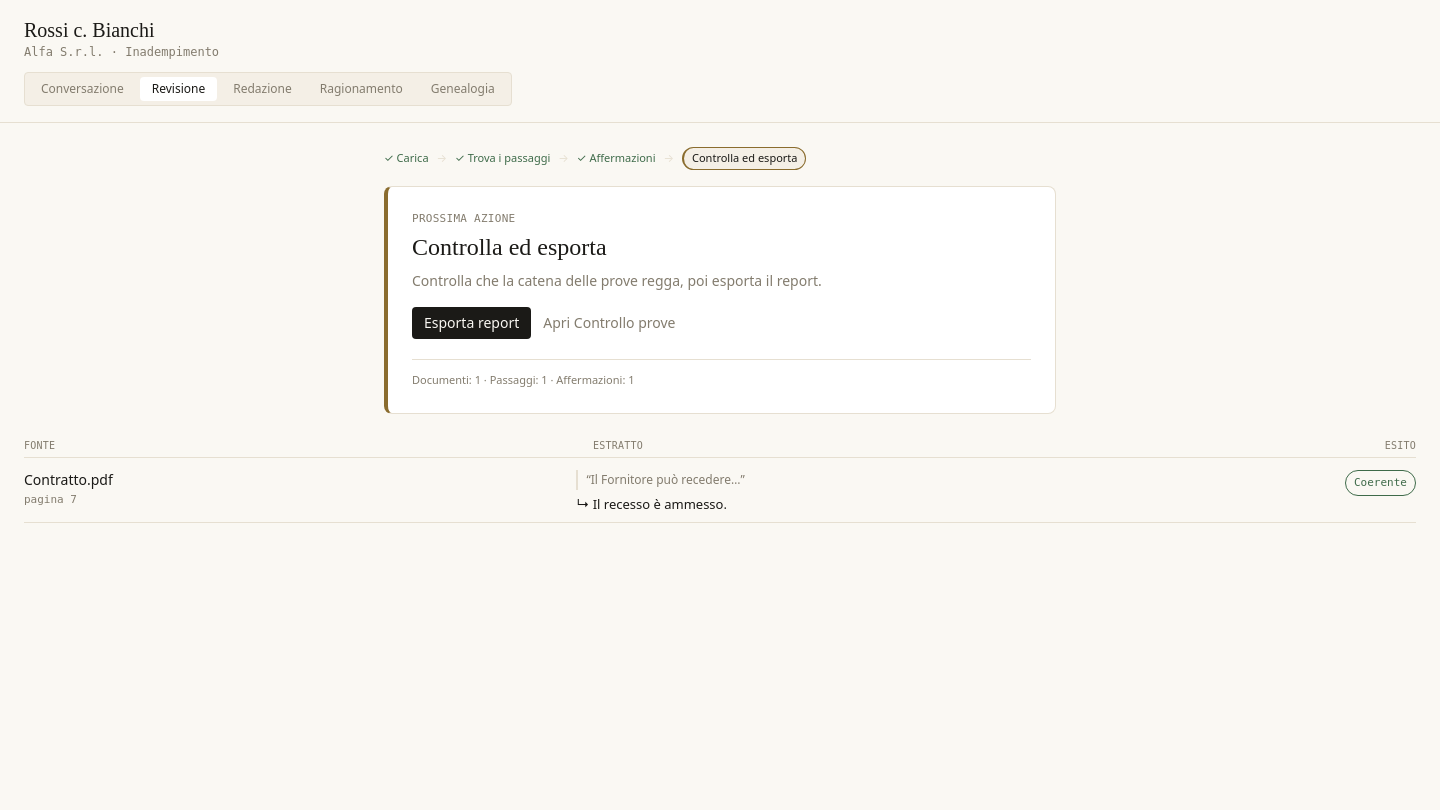
Scenario: Genealogia mode is an honest empty-state — NO mock genealogy data
Click the button "Genealogia" at [463, 89], box [419,77,507,101]
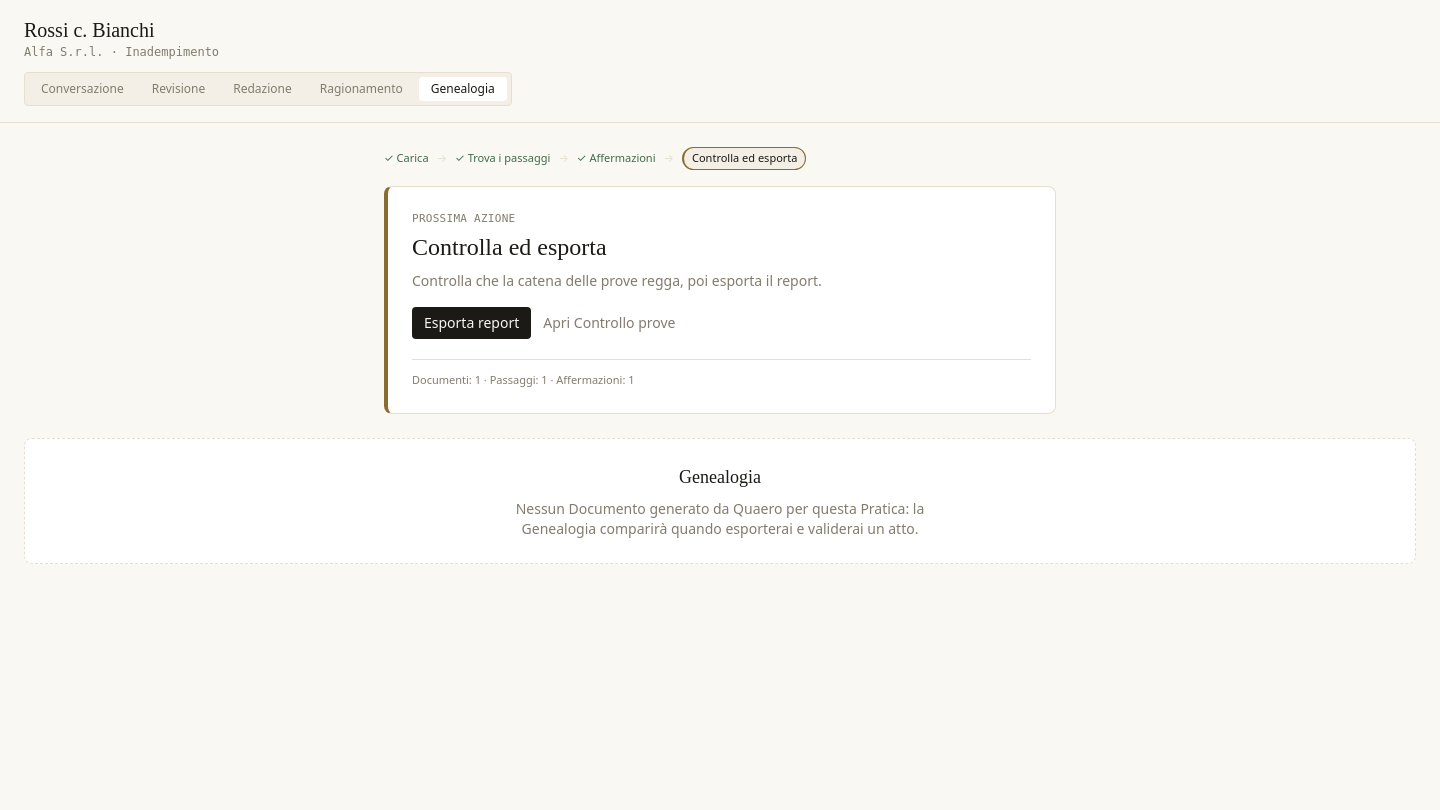
Expected: the element with test id "surface-genealogy" shows "Nessun Documento generato", [516,498,924,538]
